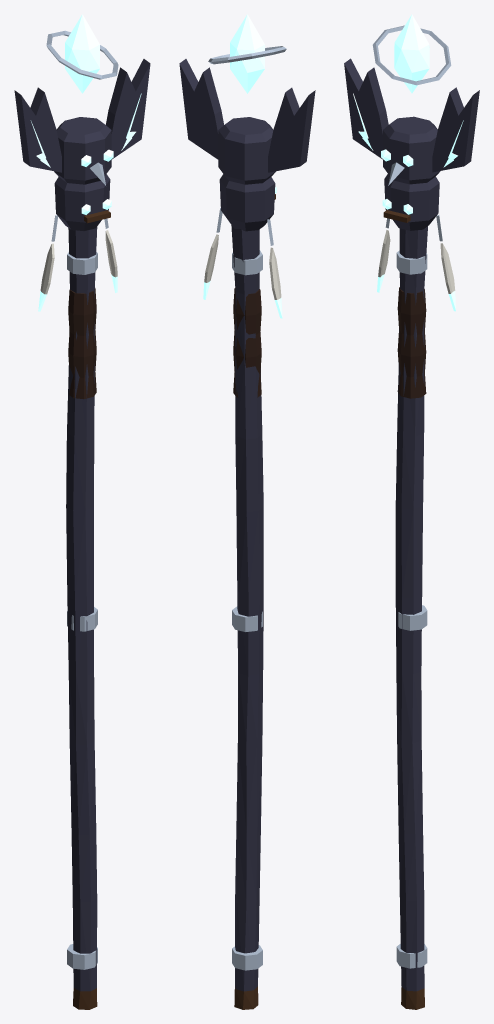
File: W2S_StormTotemStaff.fbx
3 views of the same model, side by side, from view 1: azimuth 30°, elevation 25°; view 2: azimuth 150°, elevation 25°; view 3: azimuth 330°, elevation 25° (orthographic).
Parts seen in each view (by area): view 1: W2S_StormTotemStaff; view 2: W2S_StormTotemStaff; view 3: W2S_StormTotemStaff.
Part boxes in pixels (x1=…): W2S_StormTotemStaff: x1=14, y1=14, x2=150, y2=1009; W2S_StormTotemStaff: x1=179, y1=14, x2=315, y2=1009; W2S_StormTotemStaff: x1=344, y1=14, x2=479, y2=1009.
Size of the model in its own units: 22 by 161 by 12.8.
